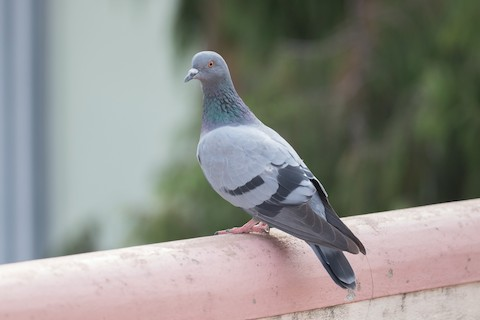pigeon: (180, 45, 369, 292)
